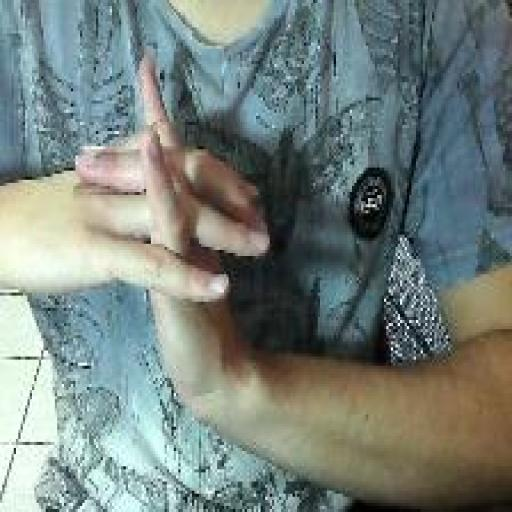Ushi -ox-: (70, 52, 275, 445)
